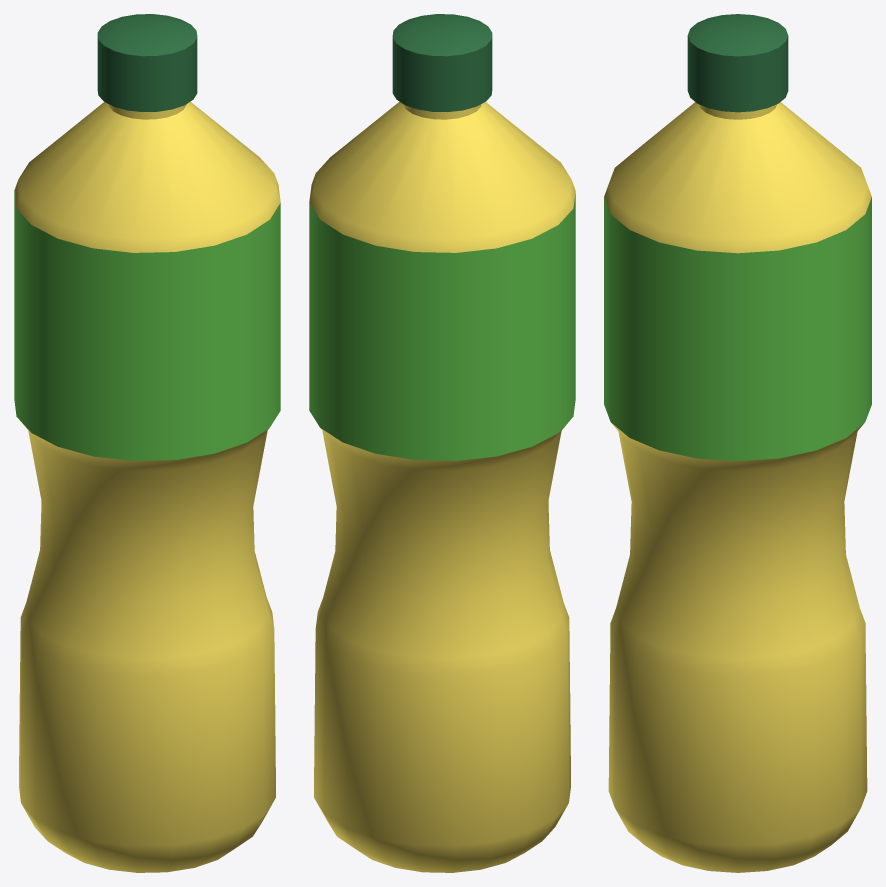
The model's file is Oil.fbx.
3 views of the same model, side by side, from view 1: azimuth 30°, elevation 25°; view 2: azimuth 150°, elevation 25°; view 3: azimuth 270°, elevation 25° (orthographic).
Visible parts, largest first — view 1: Cylinder.001; view 2: Cylinder.001; view 3: Cylinder.001.
Part boxes in pixels (left/top/right/bottom): Cylinder.001: left=14, top=14, right=280, bottom=872; Cylinder.001: left=309, top=14, right=575, bottom=872; Cylinder.001: left=604, top=14, right=871, bottom=872.
Size of the model in its own units: 394 by 1306 by 394.
